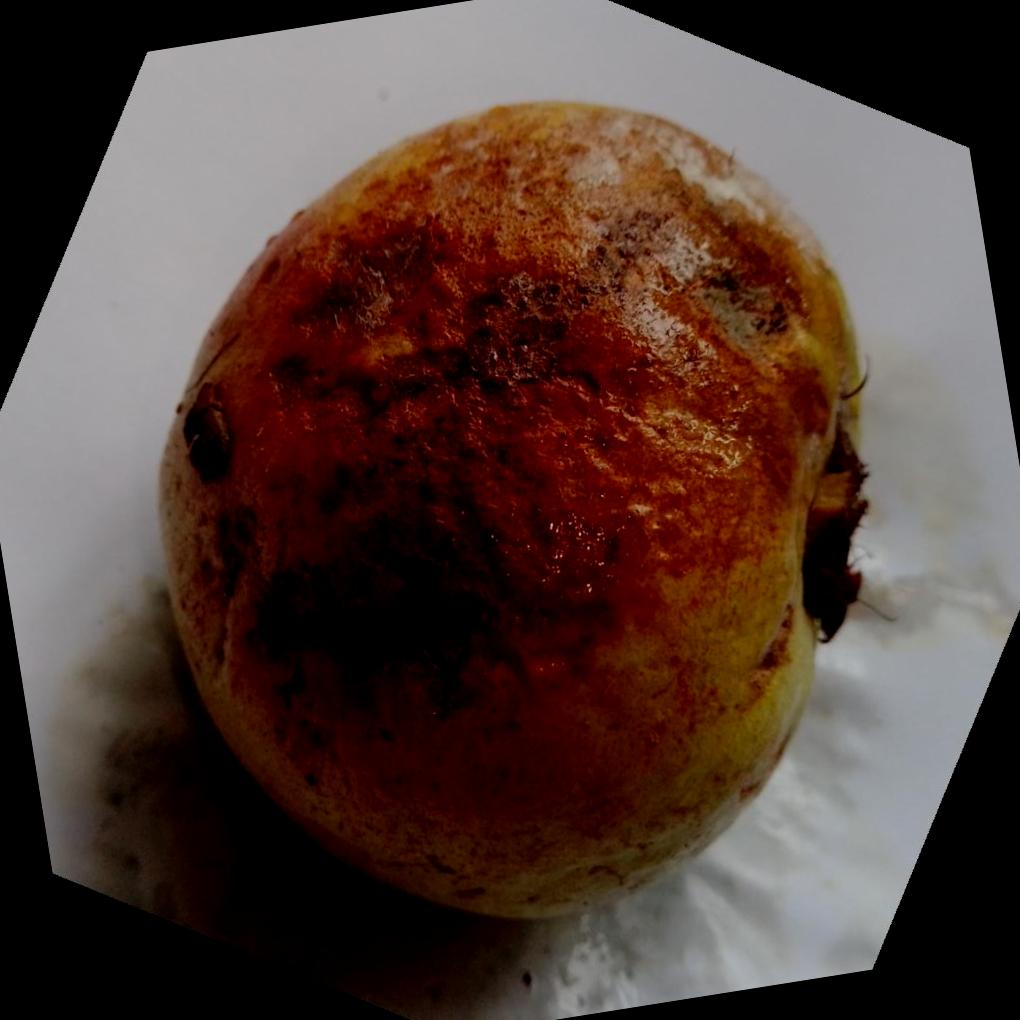FreshOrange: (151, 97, 866, 922)
